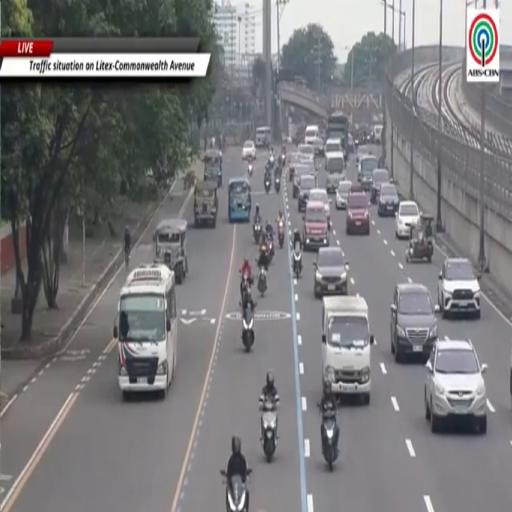bus: (114, 264, 177, 398), (327, 111, 349, 152)
car: (425, 340, 487, 434), (390, 283, 439, 362), (438, 259, 480, 318), (314, 247, 348, 297), (303, 202, 329, 250), (345, 186, 370, 234), (396, 201, 420, 238), (309, 188, 331, 226), (292, 164, 315, 198), (287, 153, 314, 181), (370, 169, 390, 204), (358, 155, 378, 190), (378, 184, 399, 216), (298, 175, 316, 212), (324, 151, 346, 174), (336, 181, 351, 210), (326, 172, 345, 194), (287, 153, 300, 182), (325, 138, 342, 155), (356, 144, 370, 164), (242, 140, 255, 159), (311, 137, 324, 155), (298, 144, 314, 156), (510, 351, 511, 402)
jeepney: (153, 218, 188, 283), (194, 182, 218, 227), (228, 178, 251, 222), (204, 150, 222, 186)
motorcycle: (318, 405, 338, 471), (221, 470, 248, 511), (261, 397, 276, 462), (242, 307, 254, 351), (292, 250, 302, 278), (257, 268, 266, 296), (241, 272, 250, 299), (267, 237, 274, 263), (278, 219, 284, 248), (254, 221, 261, 244), (264, 175, 270, 194), (275, 174, 280, 193), (248, 164, 253, 177), (269, 155, 274, 167), (281, 154, 285, 167)
tricycle: (406, 214, 435, 262)
truck: (322, 296, 374, 405), (327, 111, 349, 159)
